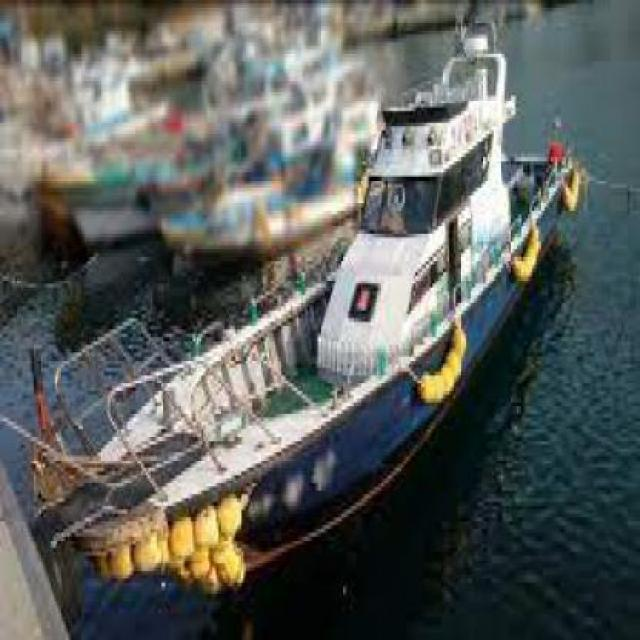Ship: (9, 36, 611, 607)
